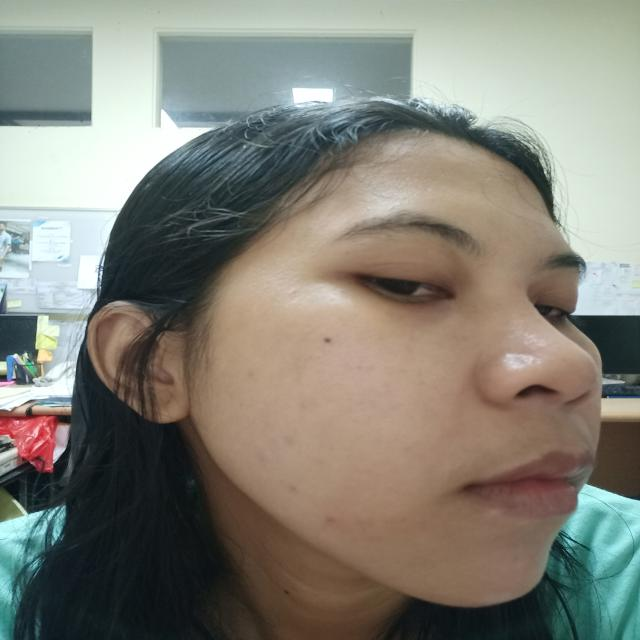Acne: (294, 396, 322, 419), (318, 511, 345, 530), (282, 282, 306, 303), (253, 454, 279, 471), (281, 484, 308, 500), (281, 435, 305, 447), (242, 367, 260, 382)
Eyebags: (354, 297, 471, 331)
